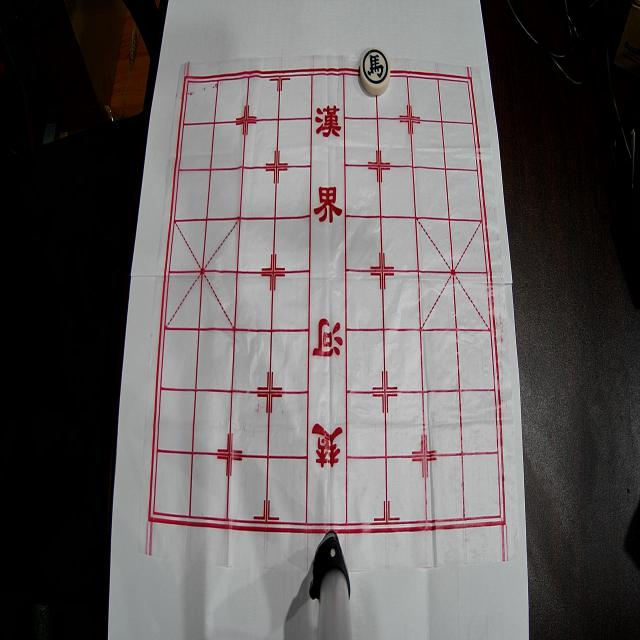black-horse: (360, 47, 390, 95)
